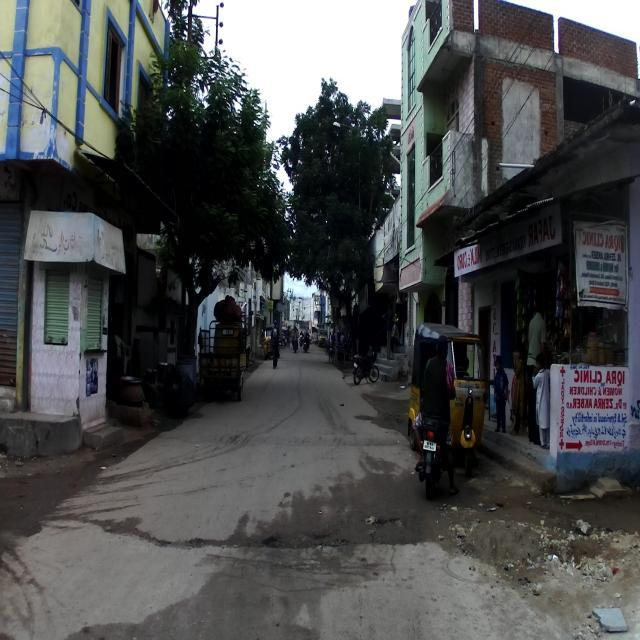Pothole: (261, 488, 478, 576), (88, 483, 259, 588), (483, 497, 613, 589)
